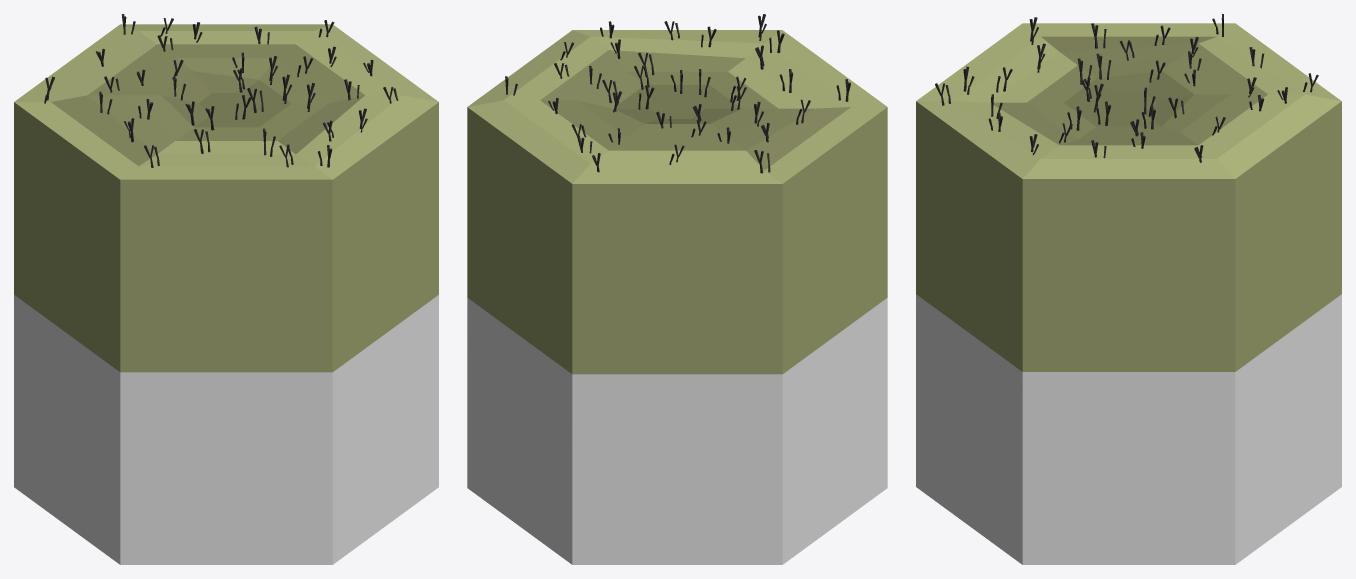
File: HexCellPlainsV2.fbx
The picture shows the model from 3 angles, left to right: view 1: azimuth 30°, elevation 25°; view 2: azimuth 150°, elevation 25°; view 3: azimuth 270°, elevation 25°; orthographic projection.
Parts seen in each view (by area): view 1: Plains; view 2: Plains; view 3: Plains.
Part boxes in pixels (x1=…): Plains: x1=14, y1=14, x2=438, y2=564; Plains: x1=467, y1=14, x2=887, y2=564; Plains: x1=916, y1=14, x2=1341, y2=564.
Size of the model in its own units: 173 by 211 by 200.
